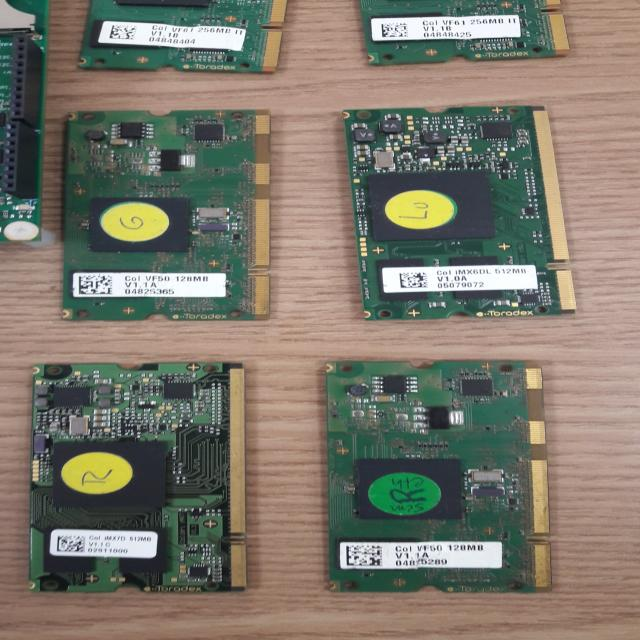som: (319, 354, 559, 600), (25, 356, 252, 598), (337, 102, 583, 316), (61, 104, 282, 322), (351, 1, 575, 74), (72, 1, 292, 72)
